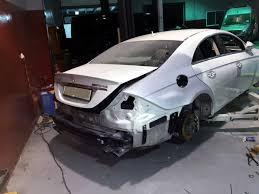rear-bumper-dent: (58, 113, 125, 142)
